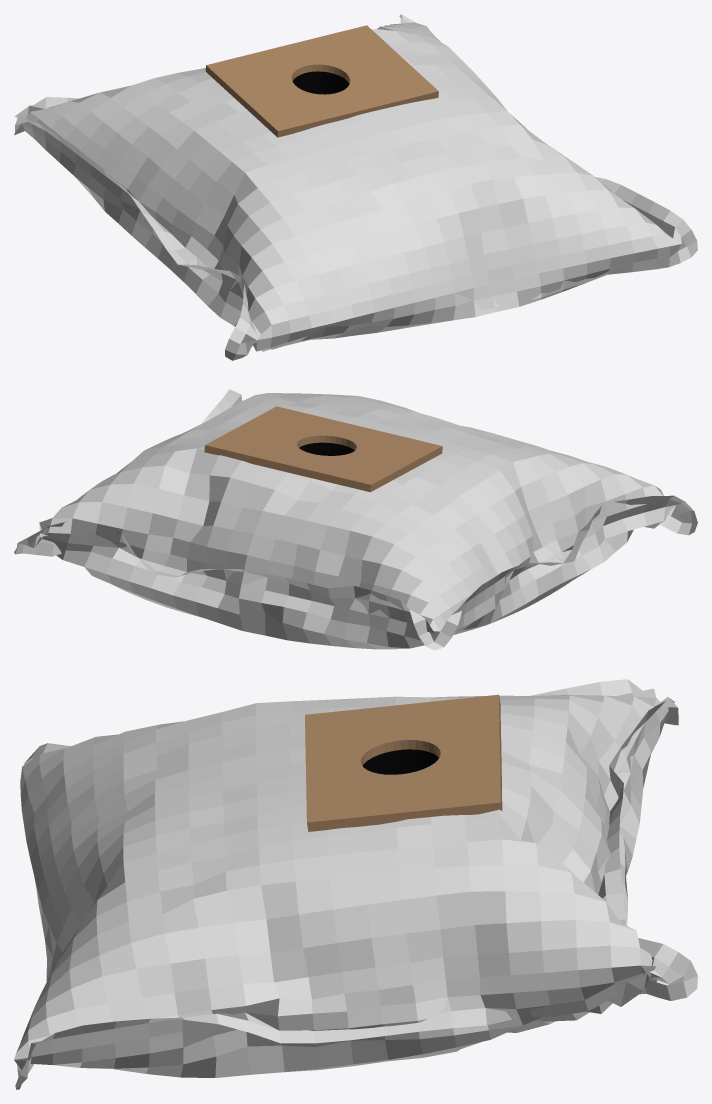
File: dirtbag.glb
3 renders of one model, top to bottom at view 1: azimuth 30°, elevation 25°; view 2: azimuth 150°, elevation 25°; view 3: azimuth 270°, elevation 25°, orthographic. The views are drawn at different scales.
Visible parts, largest first — view 1: Sphere; view 2: Sphere; view 3: Sphere.
Boxes of the visible parts, <box> form: Sphere: <box>14,14,697,360</box>; Sphere: <box>14,389,697,650</box>; Sphere: <box>14,679,697,1089</box>.
Bounding box in the file's own units: 0.7197 × 0.2607 × 0.6693.
